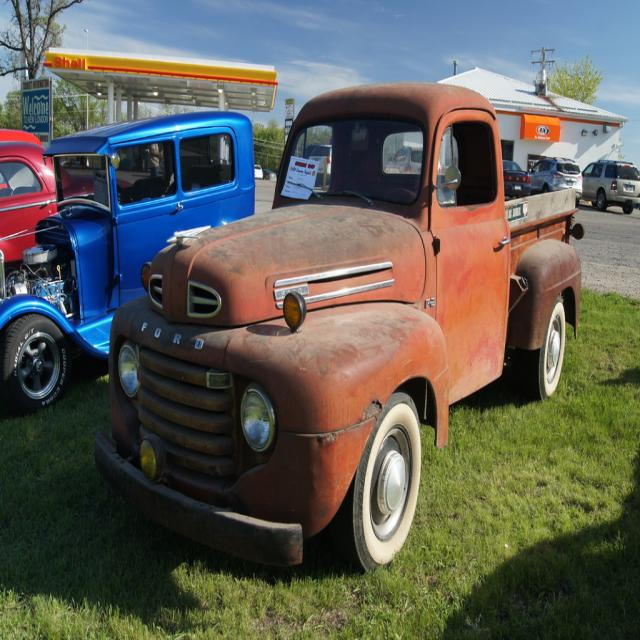car: (581, 140, 634, 199)
